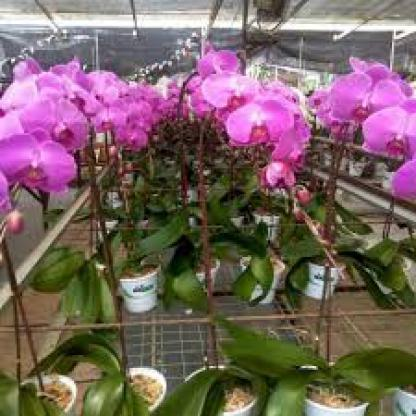ANGGREK: (7, 21, 397, 260)
